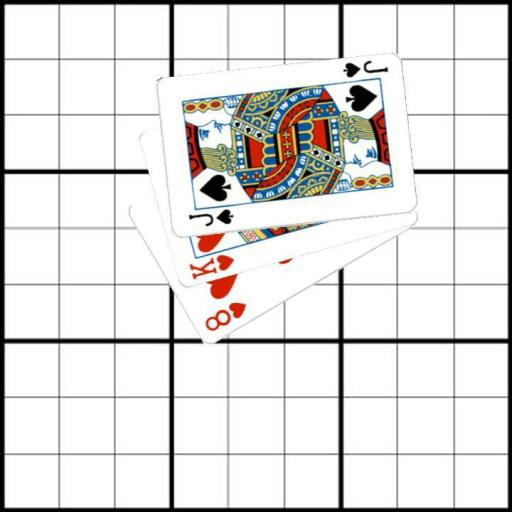8H: (201, 299, 248, 334)
JS: (185, 206, 235, 229), (340, 58, 389, 80)
KH: (186, 251, 236, 282)
